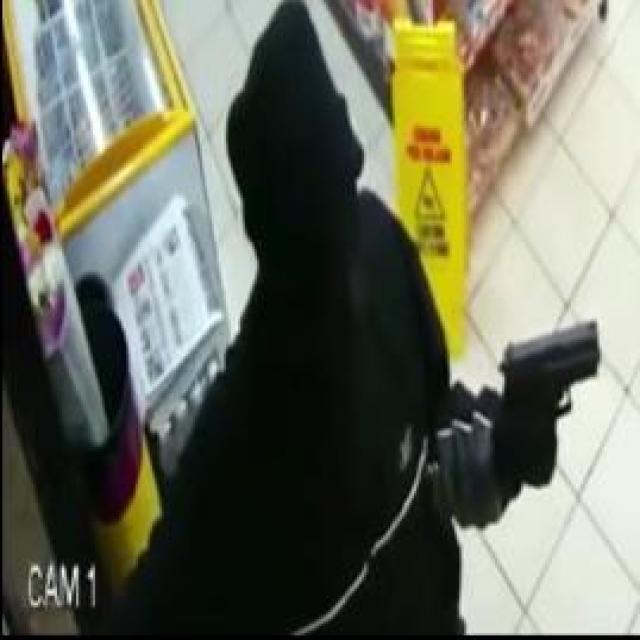Gun: (485, 321, 601, 453)
